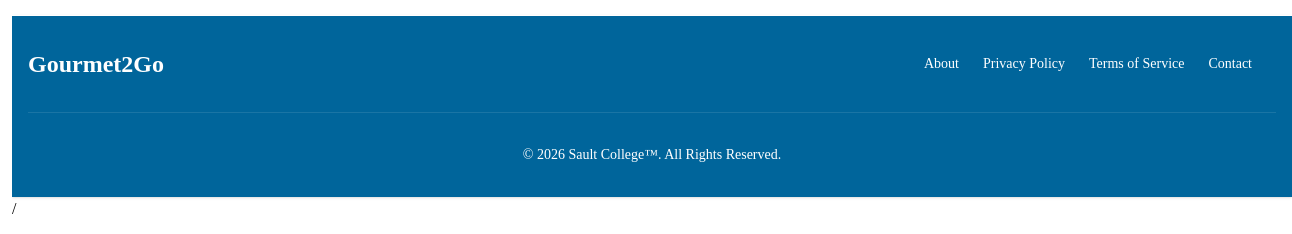
Test: Footer component › navigates to About page when About link is clicked
Click the link "About". click: {"x": 942, "y": 64}
box: 924,56 -> 959,71
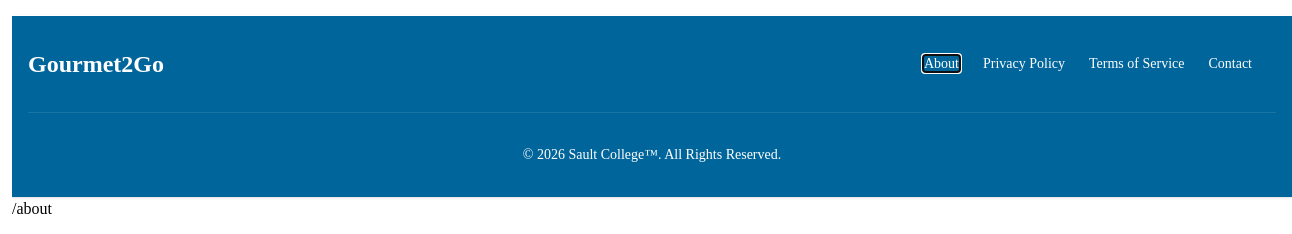
expect the text with test id "location" reads "/about": met, box 12,200 -> 52,217
